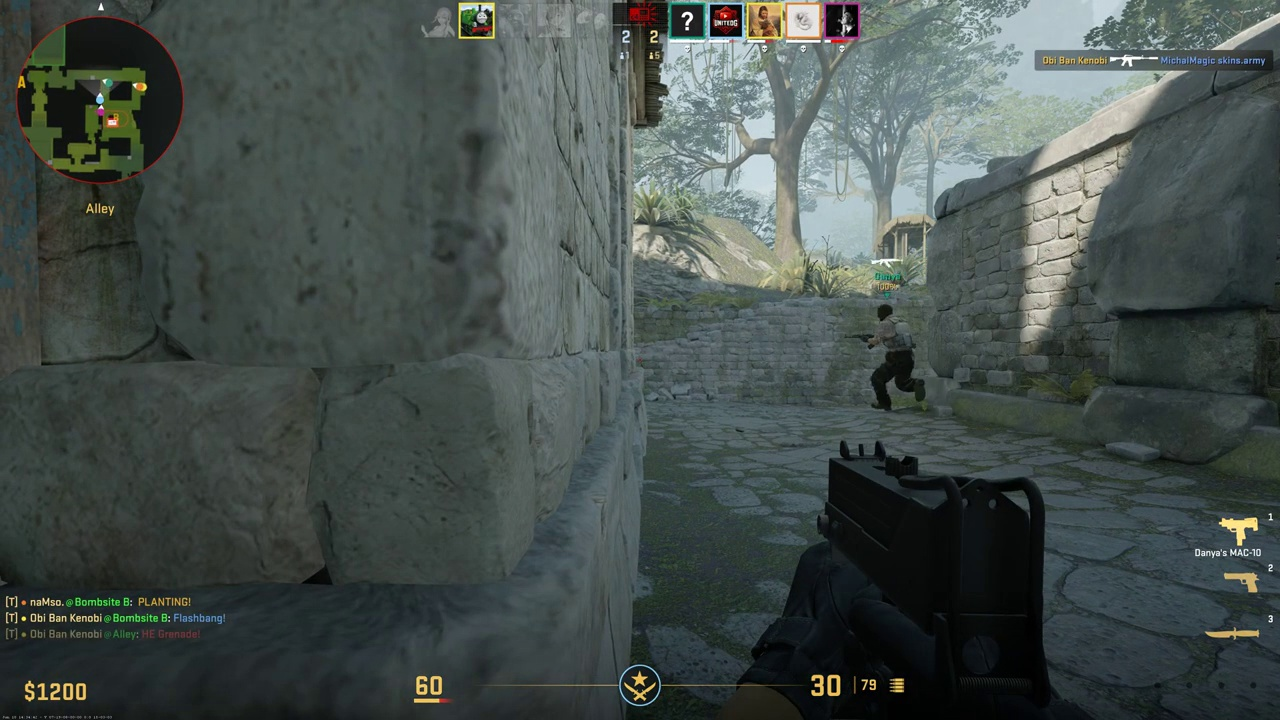Terrorist: (867, 304, 924, 411)
